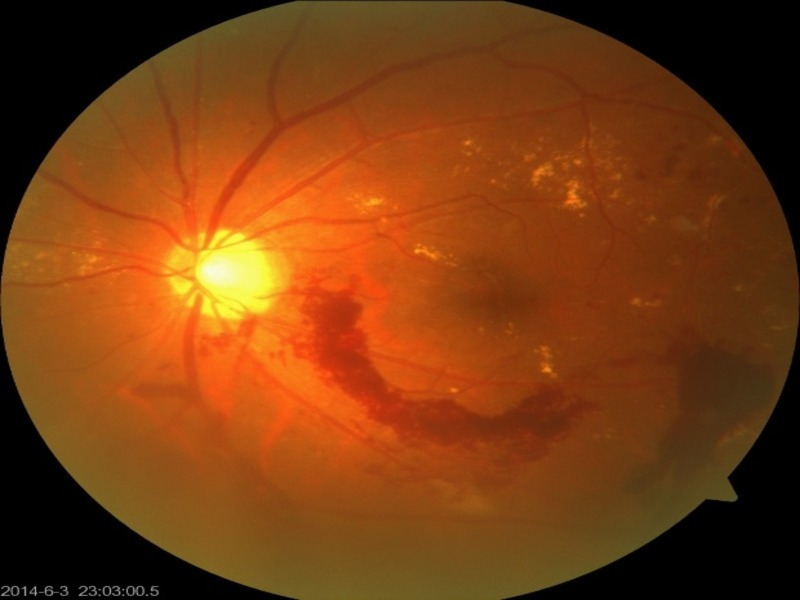Optic Cup: (198, 250, 274, 301)
Optic Disc: (172, 234, 286, 322)
